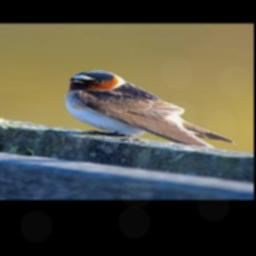Swallow: (63, 70, 237, 151)
